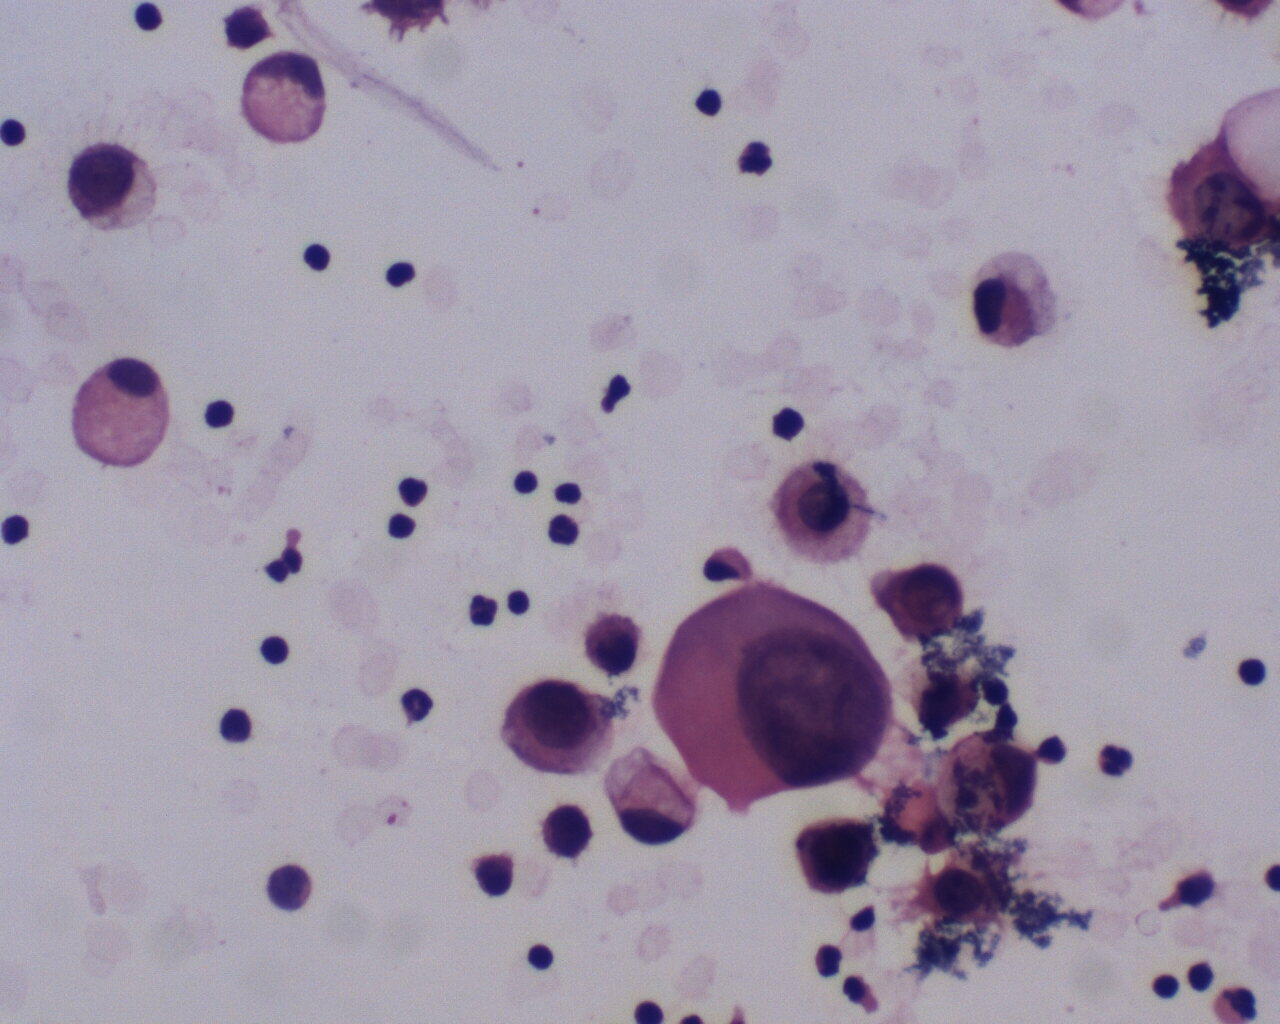ab: (655, 588, 893, 819), (495, 669, 615, 776), (61, 139, 168, 245), (875, 552, 972, 650), (794, 809, 890, 906)
histo: (64, 351, 174, 475), (238, 48, 339, 149)
lymph: (216, 700, 256, 750), (294, 233, 338, 277), (380, 508, 422, 551), (257, 630, 298, 674), (383, 254, 427, 293), (527, 931, 563, 975), (204, 391, 237, 436), (1235, 653, 1267, 695), (511, 464, 545, 499), (694, 82, 726, 117)
meso: (764, 453, 883, 565)
neutro: (1090, 738, 1141, 779), (464, 585, 503, 632), (396, 681, 438, 723)
